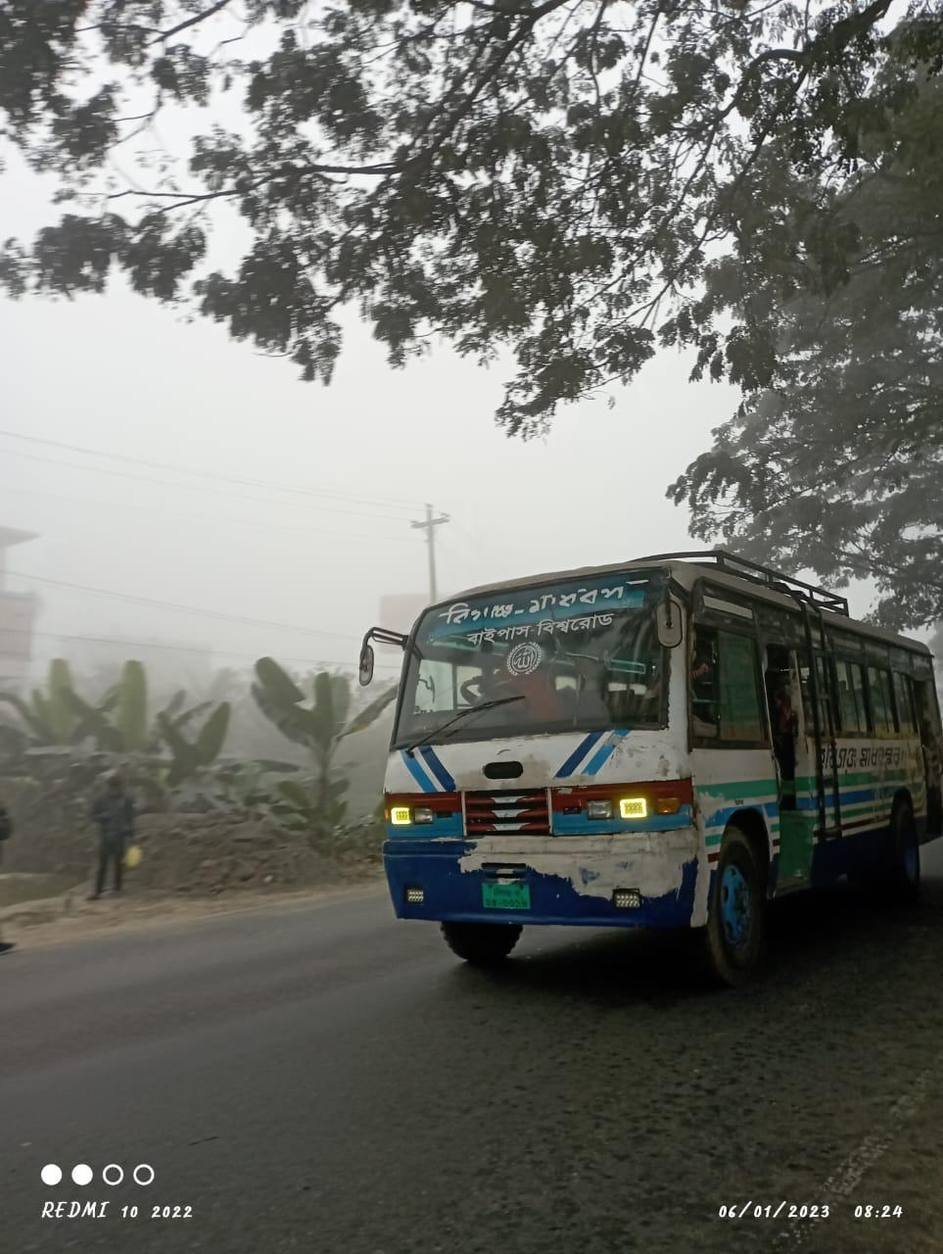Bus: (346, 544, 936, 994)
